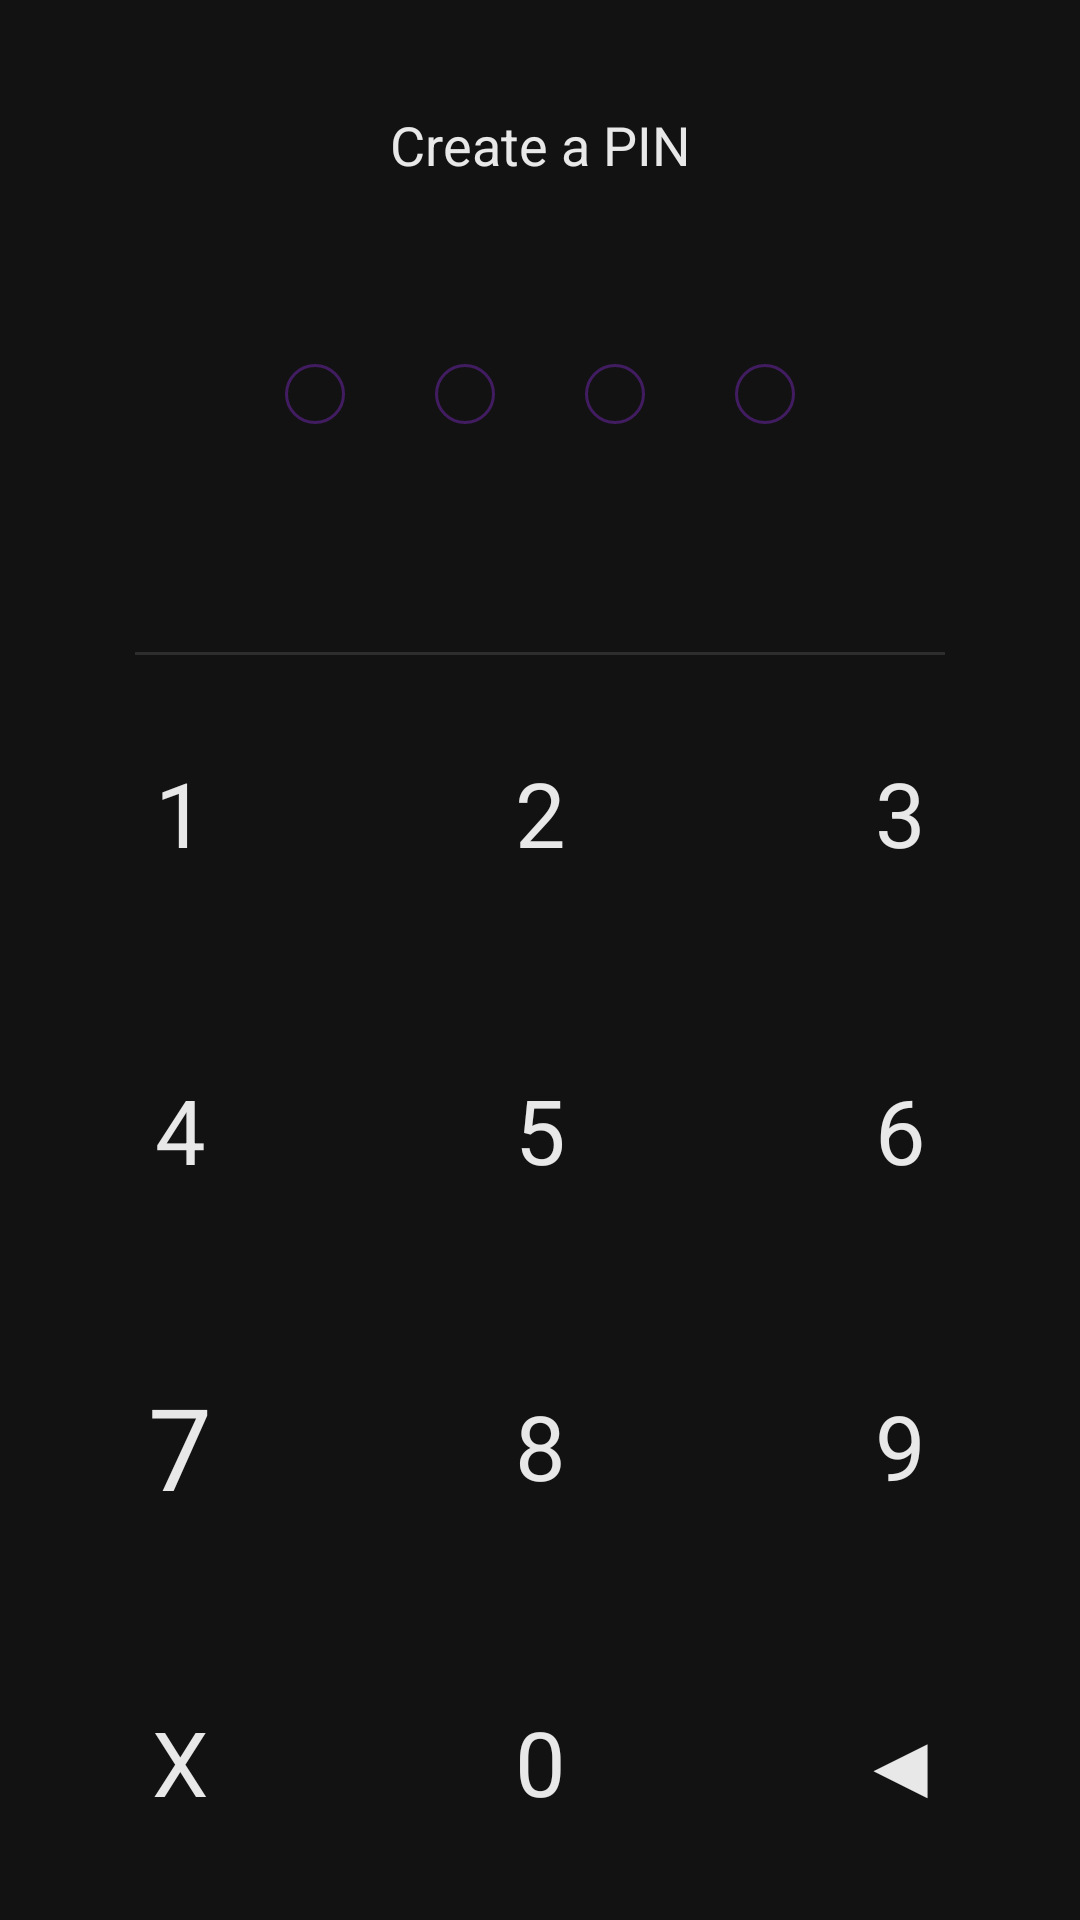

Icon bounding boxes for this 1080w x 1920h phone screenshot, format bbox=(x1, y1, x2, y2):
empty dot item: bbox=(285, 364, 345, 424), bbox=(435, 364, 495, 424), bbox=(585, 364, 645, 424), bbox=(735, 364, 795, 424)
